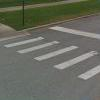Crosswalk: (7, 33, 97, 80)
